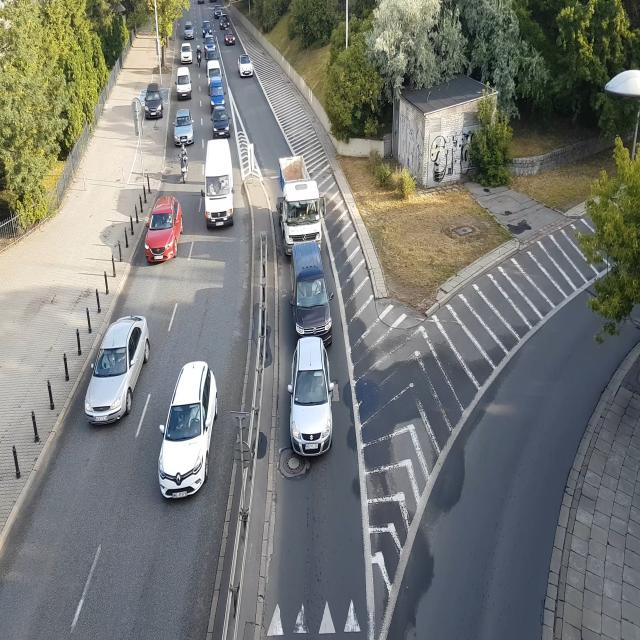car: (156, 359, 214, 510), (85, 316, 154, 427), (290, 340, 333, 462), (291, 242, 334, 342), (142, 190, 185, 274), (204, 136, 236, 232), (174, 110, 196, 148), (212, 104, 232, 140), (144, 89, 165, 118), (175, 66, 192, 100), (208, 78, 226, 106), (238, 58, 255, 77), (207, 60, 223, 80), (181, 46, 194, 64), (219, 12, 231, 29), (204, 43, 217, 57), (184, 24, 197, 38), (223, 32, 236, 45), (203, 20, 212, 38), (214, 5, 223, 18), (195, 0, 205, 5)
motorcycle: (180, 144, 191, 188), (196, 41, 202, 69)
truck: (275, 158, 325, 244)
